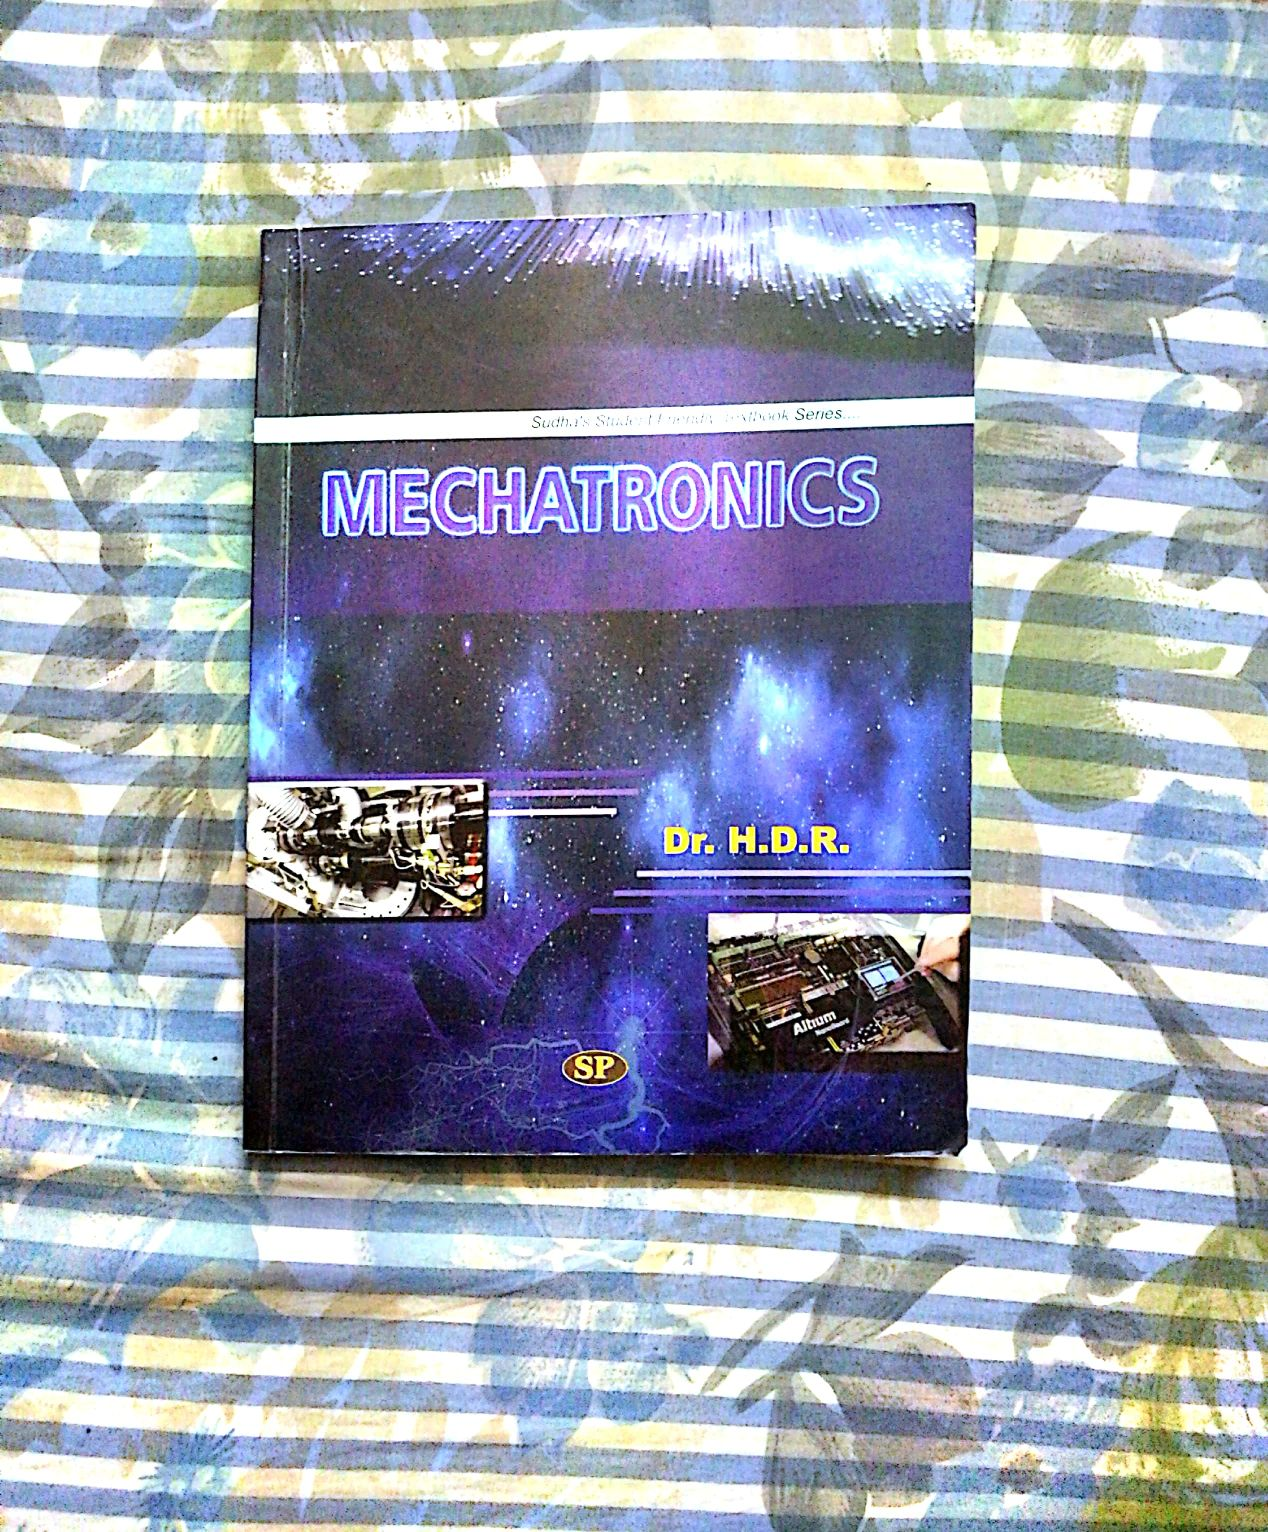mechatronics: (195, 198, 977, 1155)
